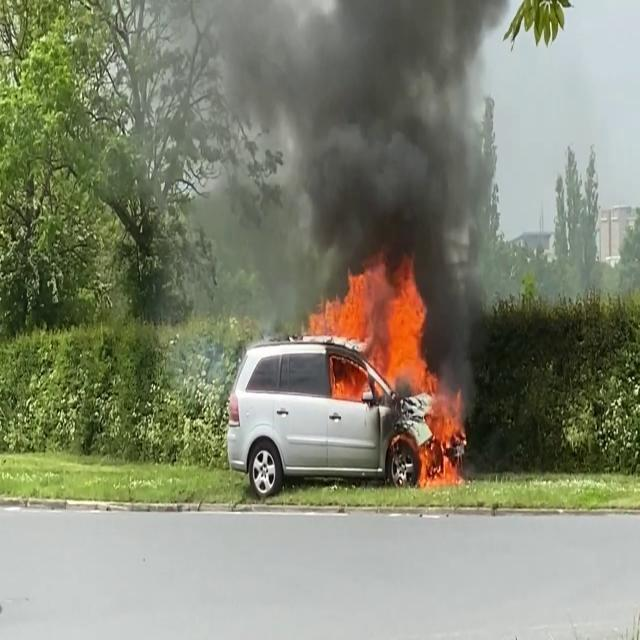Fire: (308, 258, 435, 394), (401, 378, 471, 493)
Smoke: (204, 0, 516, 292)
